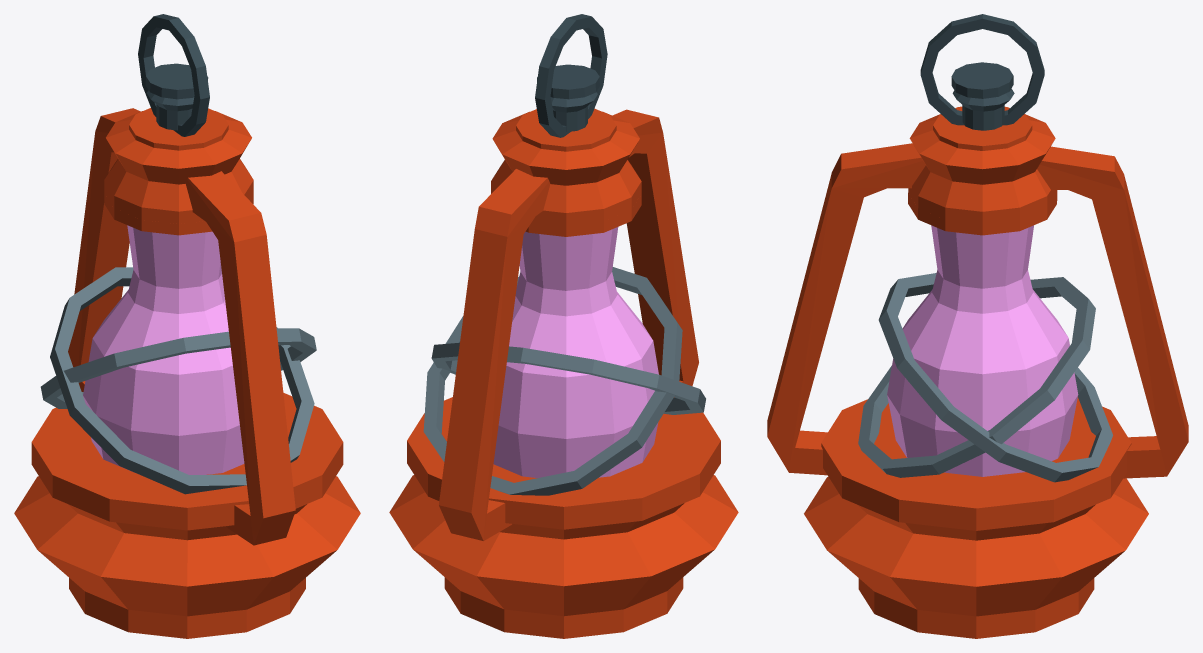
3 renders of one model, left to right at view 1: azimuth 30°, elevation 25°; view 2: azimuth 150°, elevation 25°; view 3: azimuth 270°, elevation 25°, orthographic.
Visible parts, largest first — view 1: node_MeshObject846508800-PolyPaper14, node_MeshObject-139406976-PolyGem25; view 2: node_MeshObject846508800-PolyPaper14, node_MeshObject-139406976-PolyGem25; view 3: node_MeshObject846508800-PolyPaper14, node_MeshObject-139406976-PolyGem25.
Boxes of the visible parts, <box> form: node_MeshObject846508800-PolyPaper14: <box>14,14,360,638</box>; node_MeshObject-139406976-PolyGem25: <box>83,225,244,474</box>; node_MeshObject846508800-PolyPaper14: <box>389,14,738,638</box>; node_MeshObject-139406976-PolyGem25: <box>493,227,658,477</box>; node_MeshObject846508800-PolyPaper14: <box>767,14,1188,638</box>; node_MeshObject-139406976-PolyGem25: <box>887,225,1078,476</box>.
Size of the model in its own units: 0.2782 by 0.5046 by 0.3396.
